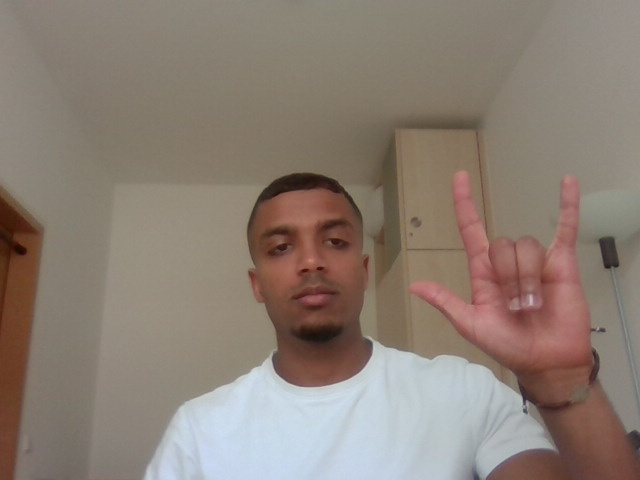absolutely: (403, 164, 619, 377)
